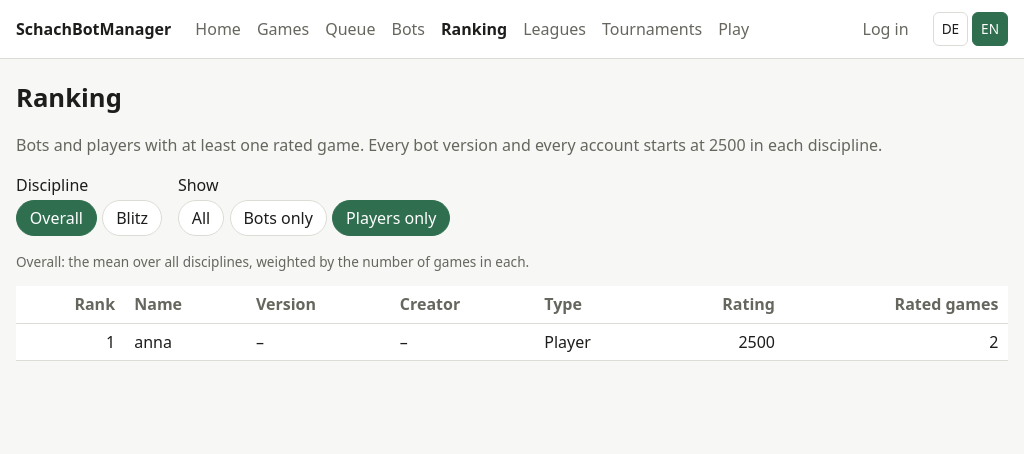
Test: ratings page › filters bots or players through the URL
expect the text "anna" is shown: met, box [125,323,246,361]
expect the text "Material" is not shown: met
Click the button "Bots only".
click(278, 218)  # box [230,200,327,236]
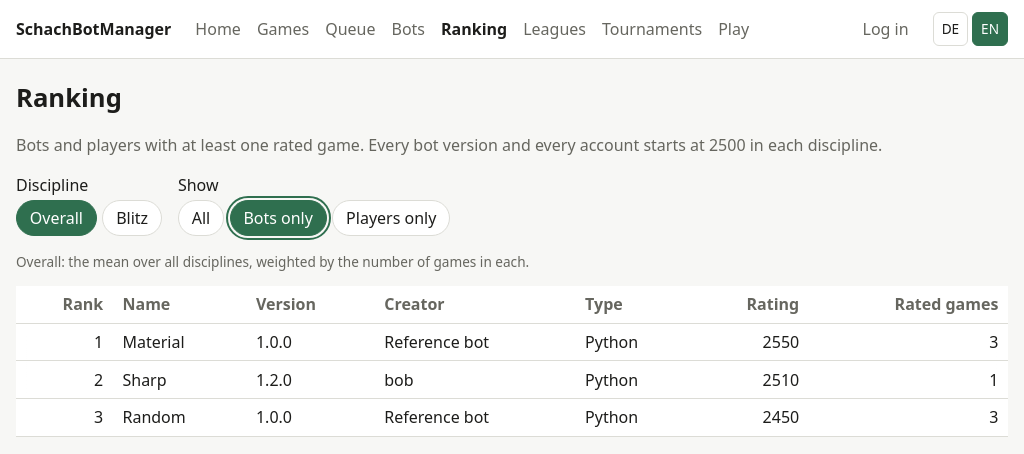
expect the link "Material" is shown: met, box [122,330,185,354]
expect the text "anna" is gone: met
